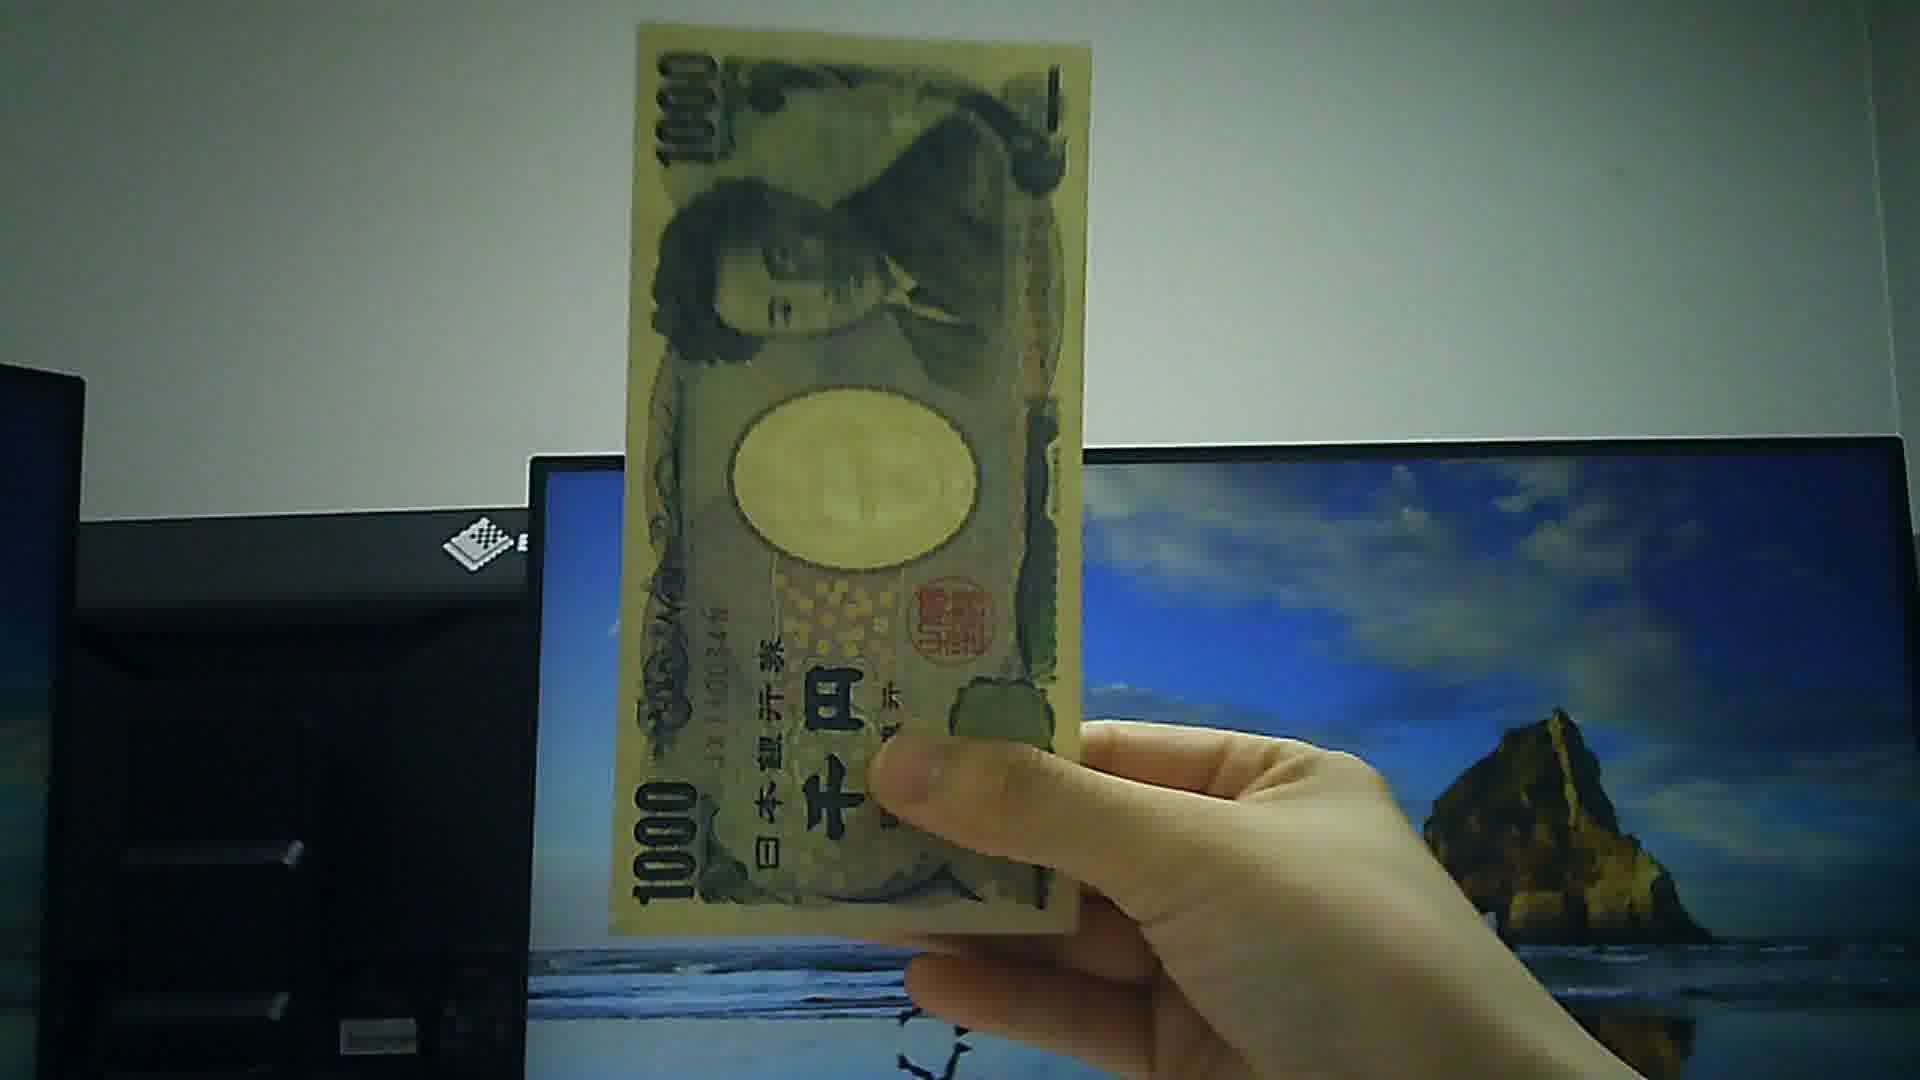1,000 Yen: (624, 11, 1091, 943)
